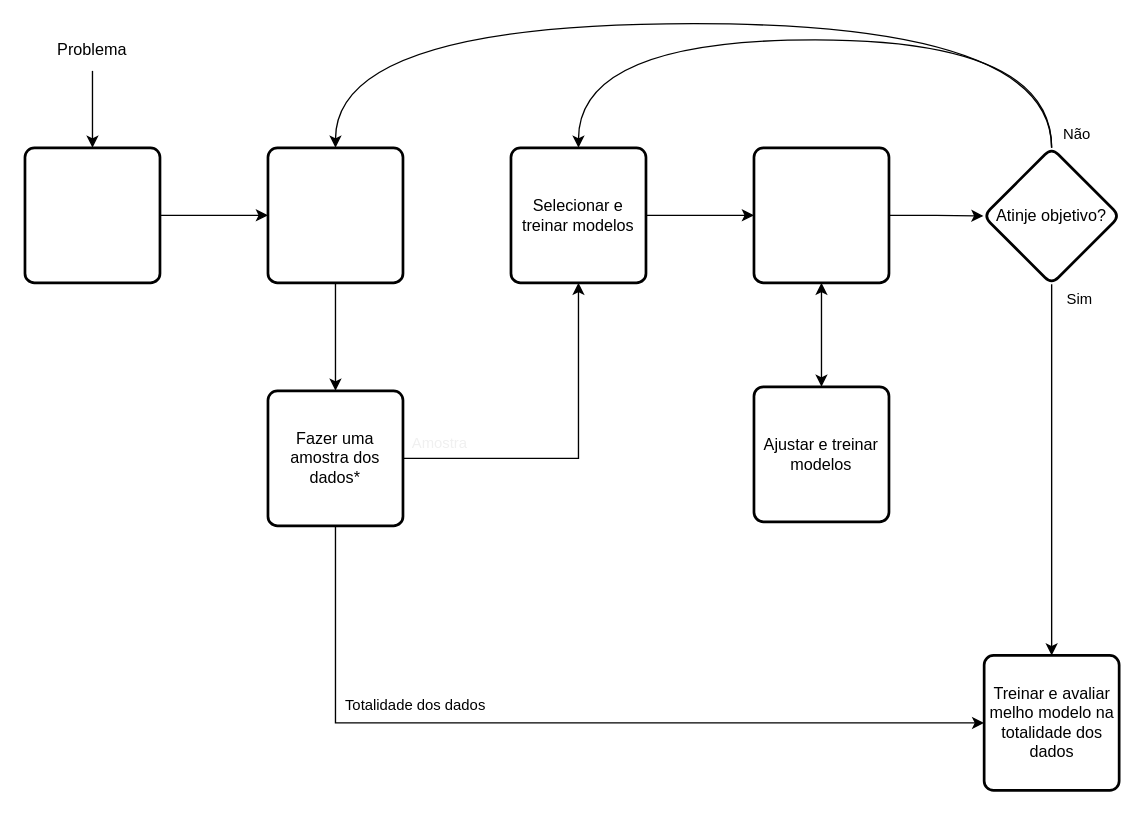
Some shapes in this 1143 by 815 pixel diagram are drawn without their labels. Here are the shapes that lost their labels. From the top down, the centre of each, then its label:
pixel 92 215: Análise do problema e dos dados
pixel 335 215: Limpeza e transformação dos dados
pixel 821 215: Avaliar e comparar modelos
